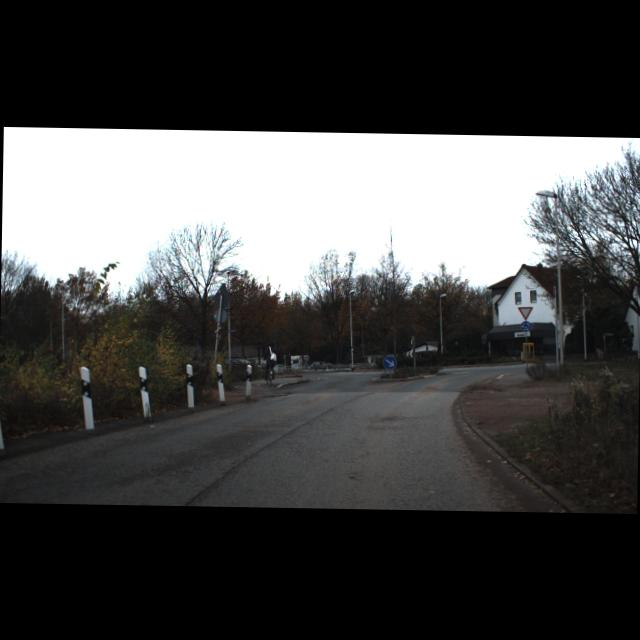mandatory: (382, 354, 397, 370), (520, 320, 530, 331)
other: (516, 305, 532, 320)
